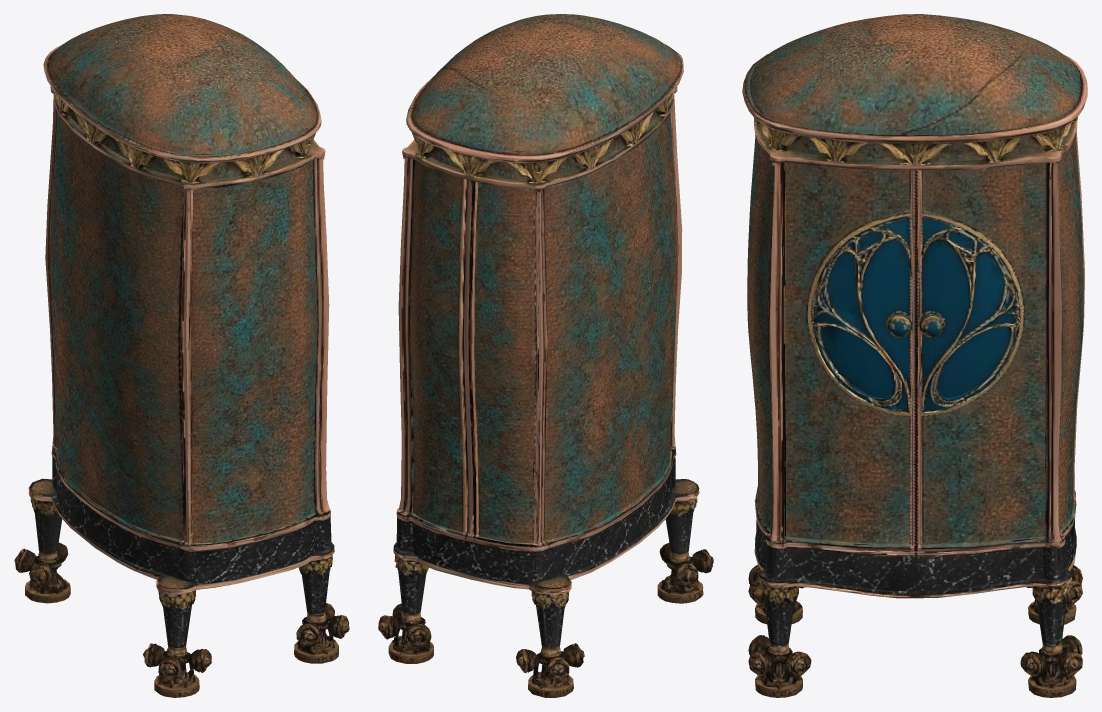
Rendered from HY-04_tall_cabinet_game.glb.
3 renders of one model, left to right at view 1: azimuth 30°, elevation 25°; view 2: azimuth 150°, elevation 25°; view 3: azimuth 270°, elevation 25°, orthographic. The views are drawn at different scales.
Visible parts, largest first — view 1: HY-04_tall_cabinet; view 2: HY-04_tall_cabinet; view 3: HY-04_tall_cabinet.
Boxes of the visible parts, left/top/right/bottom form: HY-04_tall_cabinet: left=14, top=14, right=349, bottom=697; HY-04_tall_cabinet: left=378, top=14, right=713, bottom=697; HY-04_tall_cabinet: left=742, top=14, right=1087, bottom=697.
Size of the model in its own units: 0.6891 by 1.9 by 0.954.
1 material, 1 textured.
